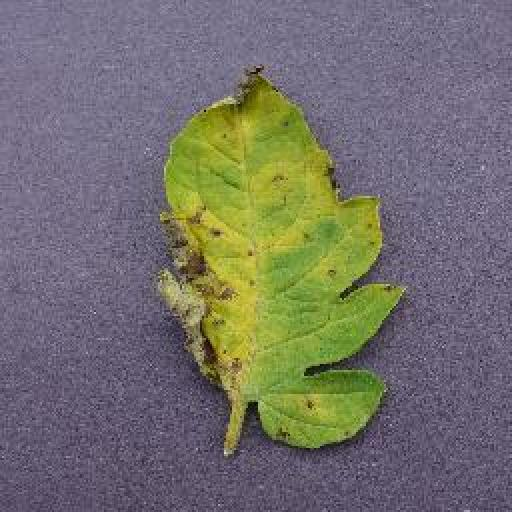disease_tomato: (156, 63, 415, 452)
